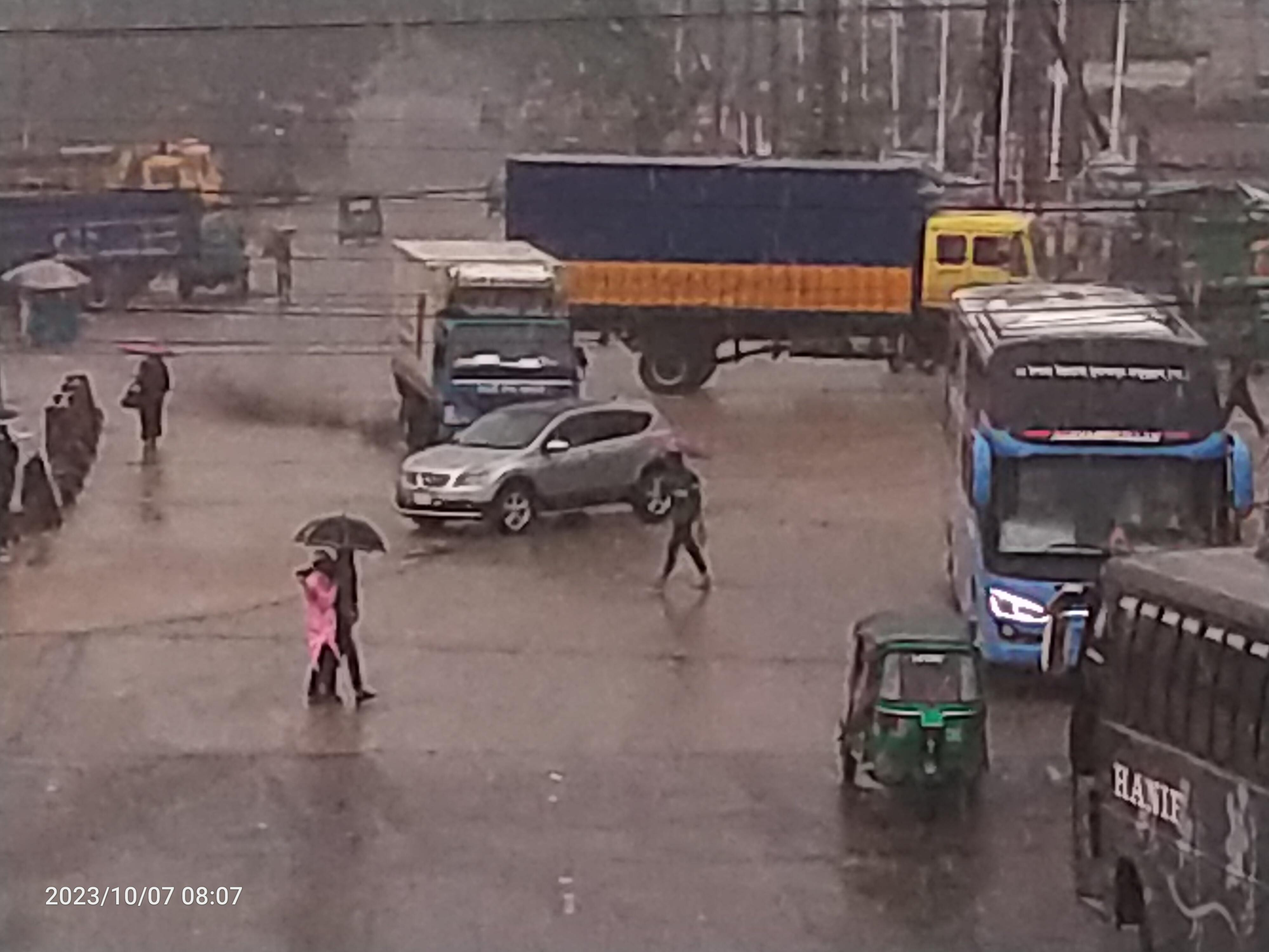Bus: (930, 267, 1249, 663), (1050, 518, 1269, 952)
Car: (378, 402, 727, 550)
Truck: (480, 124, 1065, 391), (375, 226, 597, 415), (0, 169, 236, 313)
